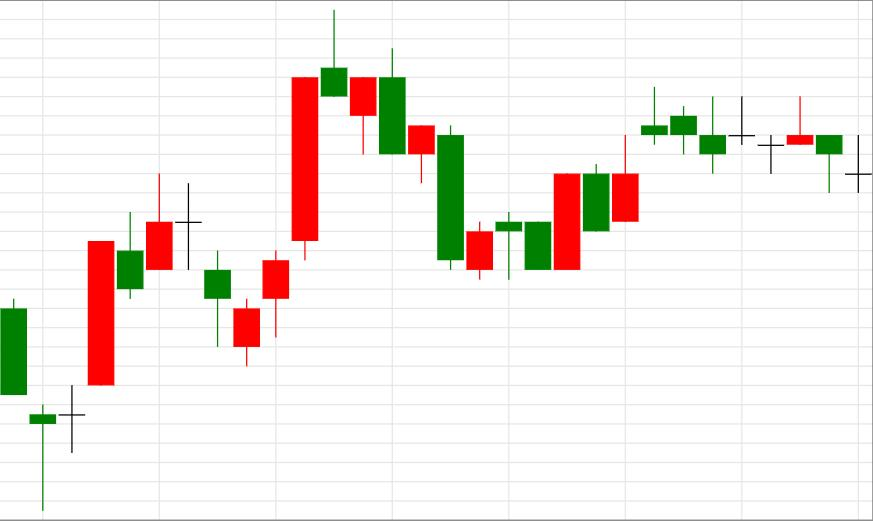shooting_star_fall: (234, 10, 348, 368)
